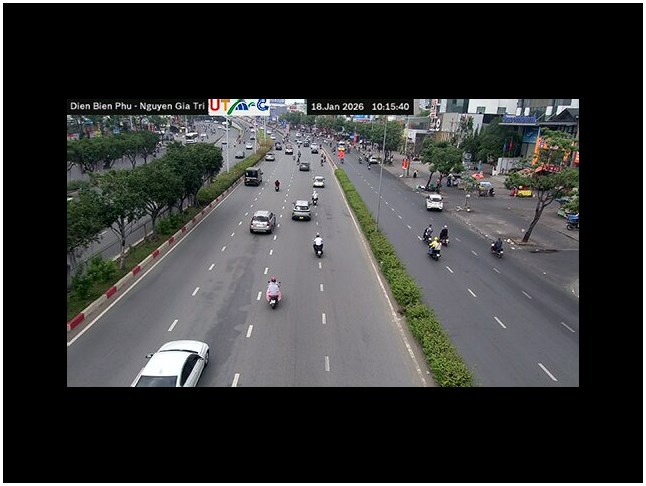car: (133, 339, 210, 385), (250, 211, 275, 234), (292, 200, 313, 221), (243, 168, 263, 186), (312, 174, 326, 187)
motorbike: (265, 277, 282, 308), (490, 238, 505, 258), (427, 241, 442, 261), (312, 233, 324, 258)
